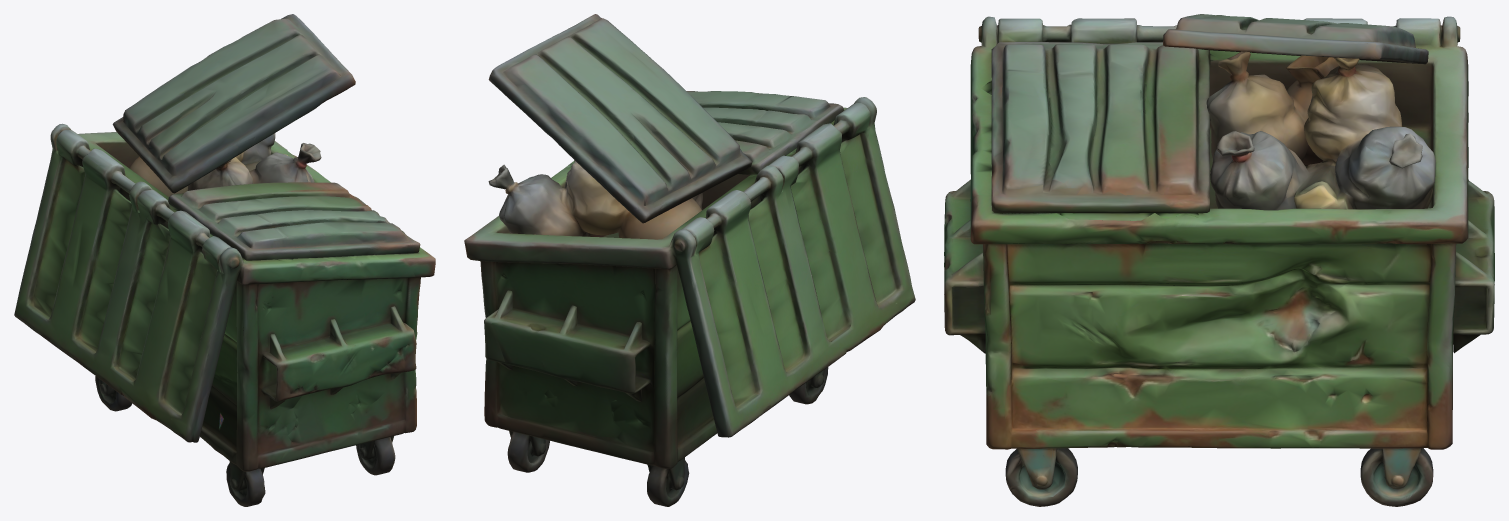
The model's file is dumpster.glb.
3 renders of one model, left to right at view 1: azimuth 30°, elevation 25°; view 2: azimuth 150°, elevation 25°; view 3: azimuth 270°, elevation 25°, orthographic. The views are drawn at different scales.
Visible parts, largest first — view 1: tripo_part_0, tripo_part_2, tripo_part_4, tripo_part_1, tripo_part_7, tripo_part_6, tripo_part_5; view 2: tripo_part_0, tripo_part_2, tripo_part_1, tripo_part_4, tripo_part_5, tripo_part_3, tripo_part_7; view 3: tripo_part_0, tripo_part_4, tripo_part_1, tripo_part_2, tripo_part_3, tripo_part_6.
Part boxes in pixels (x1,y1,x2,y2): tripo_part_0: (14,123,435,471); tripo_part_2: (112,14,355,193); tripo_part_4: (168,182,420,261); tripo_part_1: (129,133,321,196); tripo_part_7: (226,461,265,506); tripo_part_6: (356,436,395,475); tripo_part_5: (95,376,132,411); tripo_part_0: (464,97,915,468); tripo_part_2: (488,14,752,223); tripo_part_1: (488,161,702,239); tripo_part_4: (574,91,843,177); tripo_part_5: (647,457,689,506); tripo_part_3: (507,431,549,472); tripo_part_7: (789,367,828,404); tripo_part_0: (944,16,1494,449); tripo_part_4: (981,42,1219,220); tripo_part_1: (1206,51,1435,210); tripo_part_2: (1163,14,1428,64); tripo_part_3: (1360,448,1433,506); tripo_part_6: (1005,448,1077,506).
Size of the model in its own units: 0.7127 by 0.9647 by 0.98.
1 material, 1 textured.
